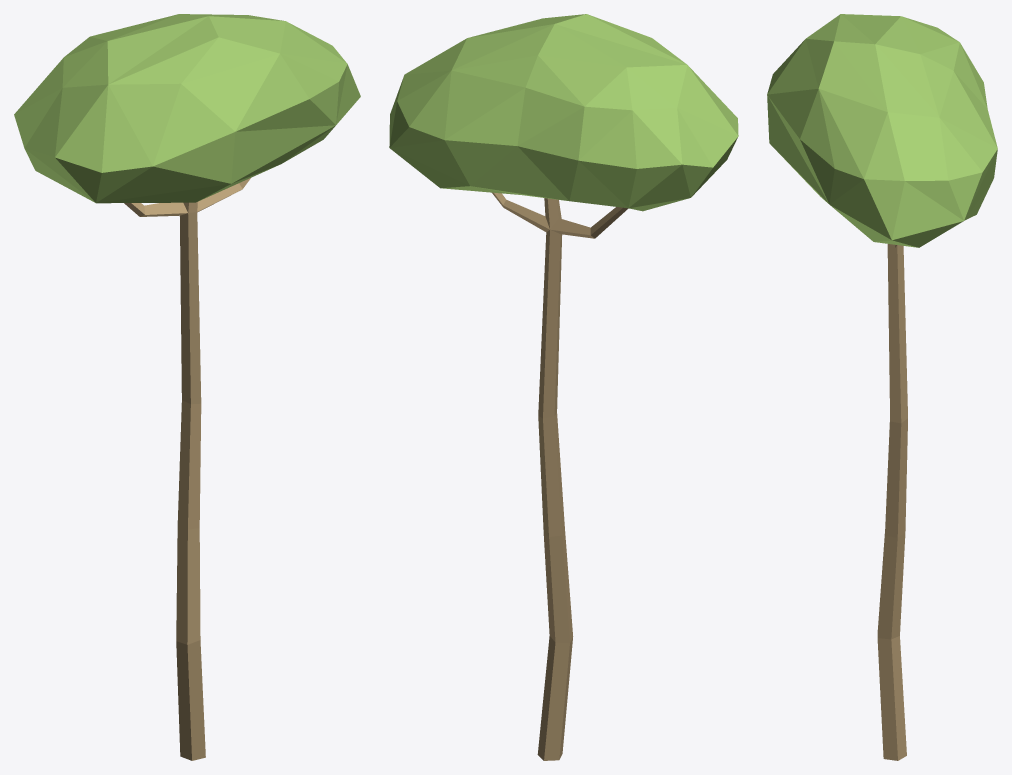
The model's file is Acacia_Tree_m_04_LOD.fbx.
3 renders of one model, left to right at view 1: azimuth 30°, elevation 25°; view 2: azimuth 150°, elevation 25°; view 3: azimuth 270°, elevation 25°, orthographic. The views are drawn at different scales.
Visible parts, largest first — view 1: Acacia_Tree_m_04_LOD0; view 2: Acacia_Tree_m_04_LOD0; view 3: Acacia_Tree_m_04_LOD0.
Part boxes in pixels (bbox=[...]): Acacia_Tree_m_04_LOD0: bbox=[14, 14, 360, 760]; Acacia_Tree_m_04_LOD0: bbox=[389, 14, 738, 760]; Acacia_Tree_m_04_LOD0: bbox=[767, 14, 997, 760].
Size of what is drawn, in the model's own units: 457 by 973 by 285.
